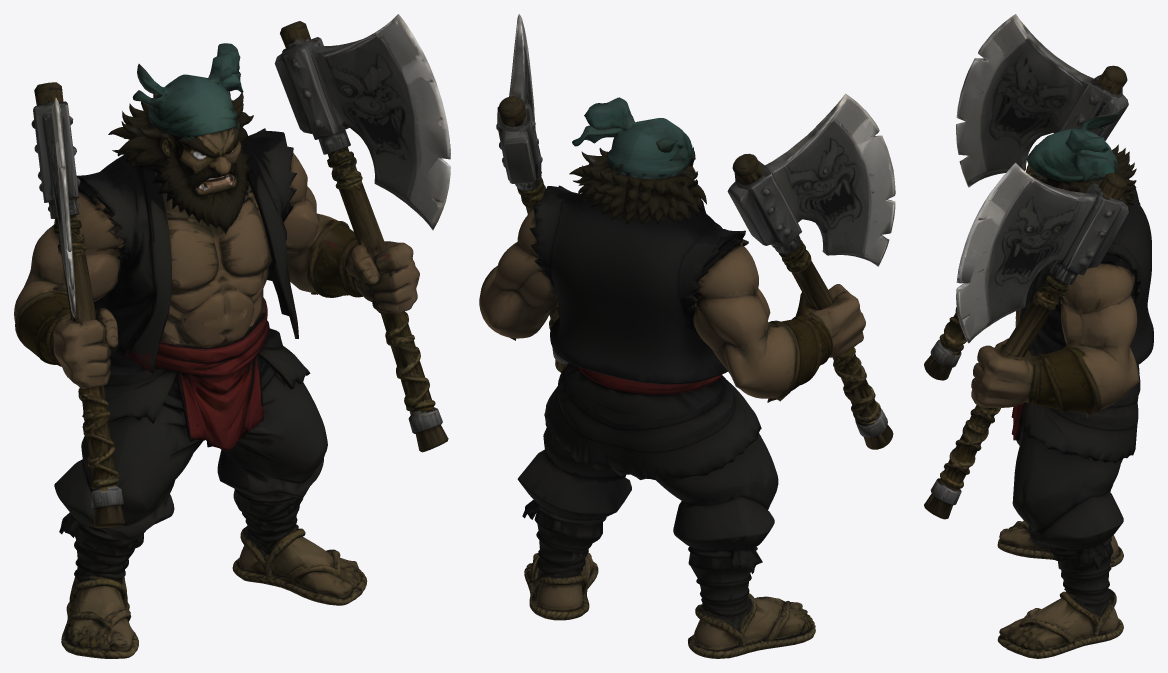
The model's file is li_kui_ai.glb.
3 views of the same model, side by side, from view 1: azimuth 30°, elevation 25°; view 2: azimuth 150°, elevation 25°; view 3: azimuth 270°, elevation 25° (orthographic). The views are drawn at different scales.
Visible parts, largest first — view 1: node_0; view 2: node_0; view 3: node_0.
Boxes of the visible parts, left/top/right/bottom form: node_0: left=14, top=14, right=450, bottom=658; node_0: left=479, top=14, right=895, bottom=658; node_0: left=924, top=14, right=1153, bottom=658.
Bounding box in the file's own units: 0.7107 × 1.01 × 0.4158.
1 material, 1 textured.
